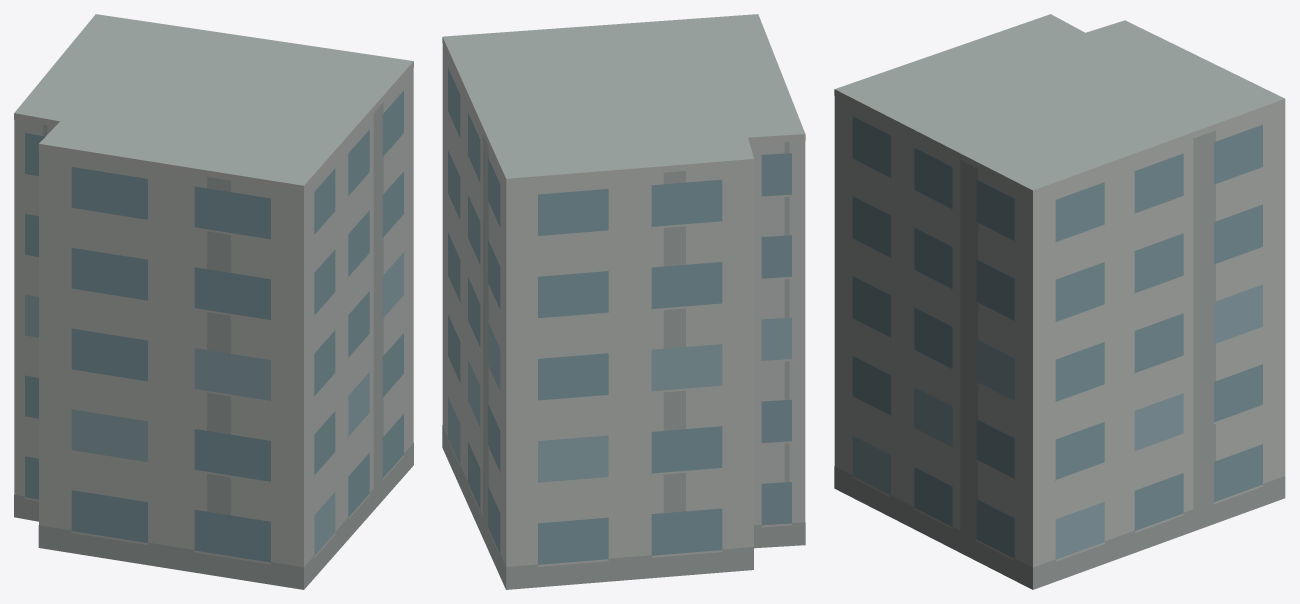
File: survey-upis-33021559.glb
3 renders of one model, left to right at view 1: azimuth 30°, elevation 25°; view 2: azimuth 150°, elevation 25°; view 3: azimuth 270°, elevation 25°, orthographic. The views are drawn at different scales.
Parts seen in each view (by area): view 1: survey-upis-33021559.tmp; view 2: survey-upis-33021559.tmp; view 3: survey-upis-33021559.tmp.
Part boxes in pixels (x1,y1,x2,y2): survey-upis-33021559.tmp: (14,14,413,589); survey-upis-33021559.tmp: (442,14,805,589); survey-upis-33021559.tmp: (834,14,1285,589).
Size of the model in its own units: 14.46 by 15.25 by 15.61.
